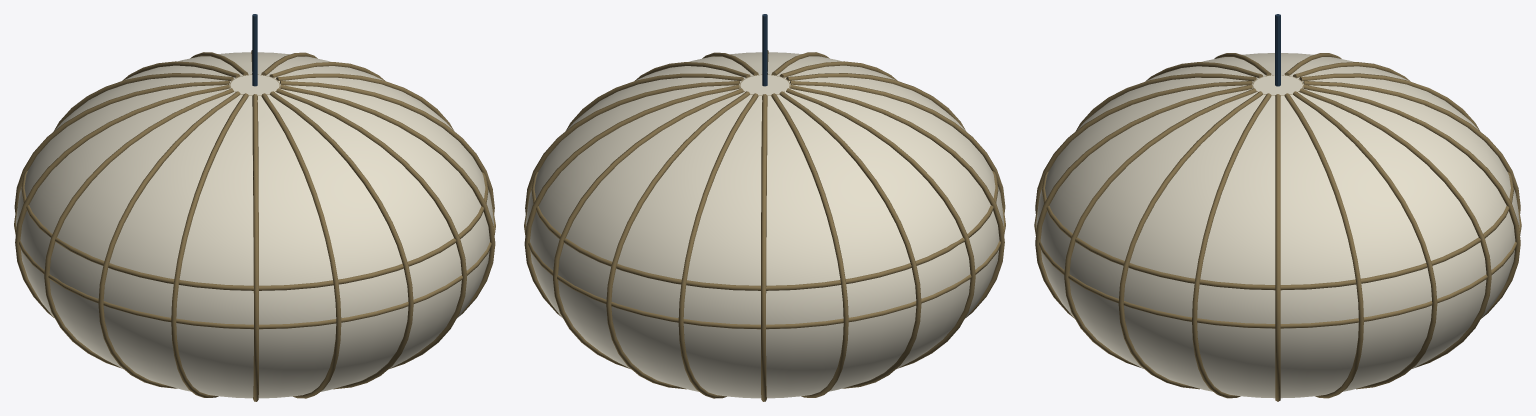
Rendered from kominka-pendant-01.glb.
3 views of the same model, side by side, from view 1: azimuth 30°, elevation 25°; view 2: azimuth 150°, elevation 25°; view 3: azimuth 270°, elevation 25° (orthographic).
Parts seen in each view (by area): view 1: kominka-pendant-01; view 2: kominka-pendant-01; view 3: kominka-pendant-01.
Part boxes in pixels (x1,y1,x2,y2): kominka-pendant-01: (14, 14, 495, 401); kominka-pendant-01: (524, 14, 1005, 401); kominka-pendant-01: (1034, 14, 1521, 401).
Size of the model in its own units: 0.5 by 0.4 by 0.5.
